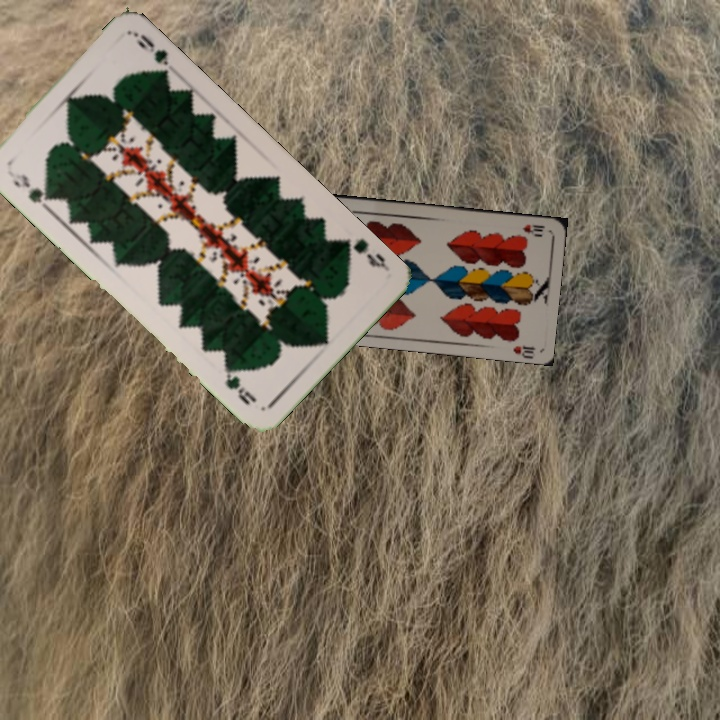G9: (337, 234, 392, 273), (8, 169, 55, 211)
H10: (519, 220, 547, 239)
